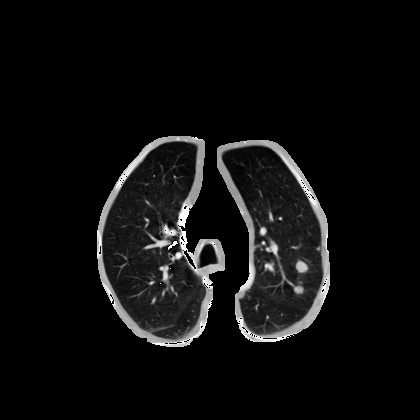PN: (295, 261, 307, 273)
